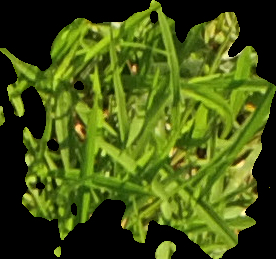grass: (1, 1, 275, 257)
